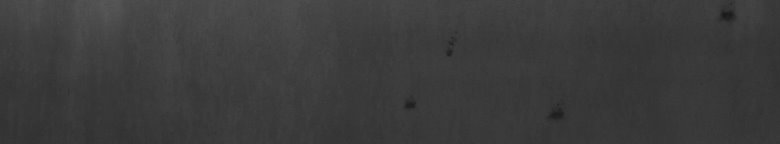fi: (547, 109, 563, 124)
